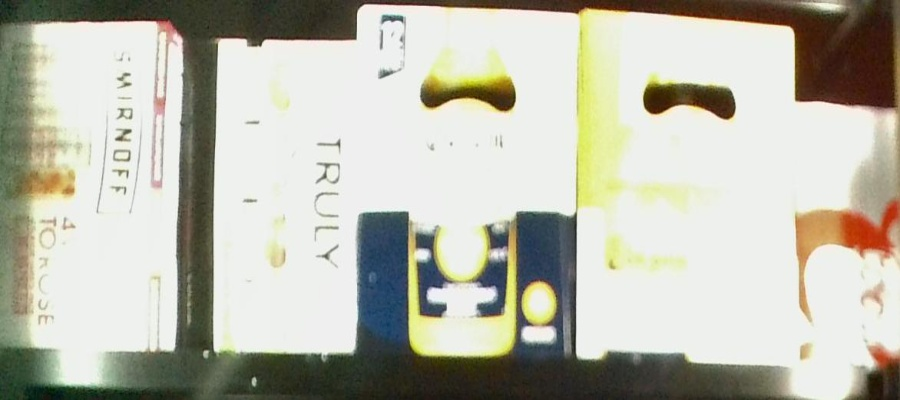bottle: (578, 7, 798, 370), (356, 5, 573, 358), (1, 19, 186, 351), (210, 38, 356, 353), (799, 100, 896, 363)
